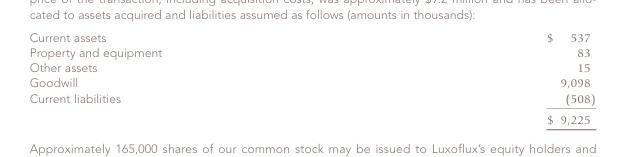table: (28, 29, 594, 125)
table column: (28, 29, 353, 125), (353, 29, 594, 125)
table row: (28, 90, 594, 108), (28, 108, 594, 125), (28, 74, 594, 90), (28, 29, 594, 44), (28, 44, 594, 59), (28, 59, 594, 74)
